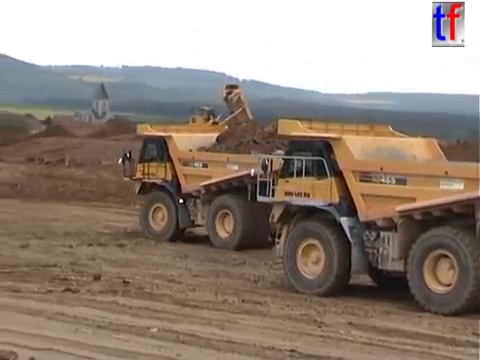truck: (248, 115, 480, 317), (116, 120, 343, 250), (187, 82, 254, 136)
